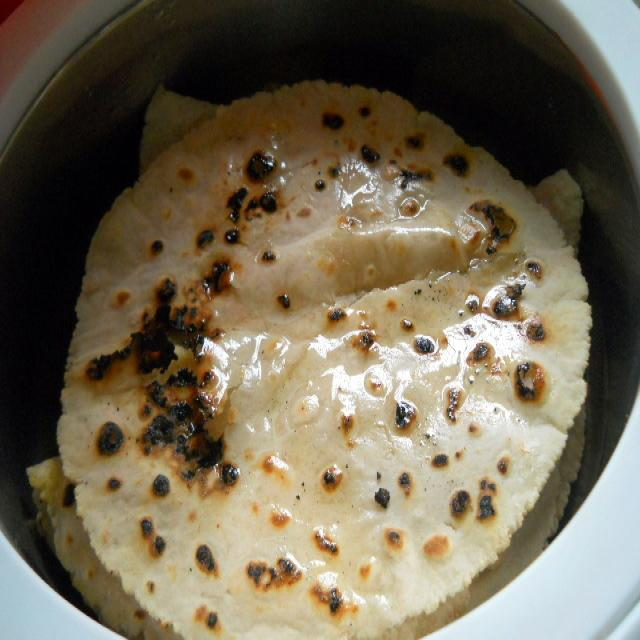ROTI: (60, 83, 591, 635)
